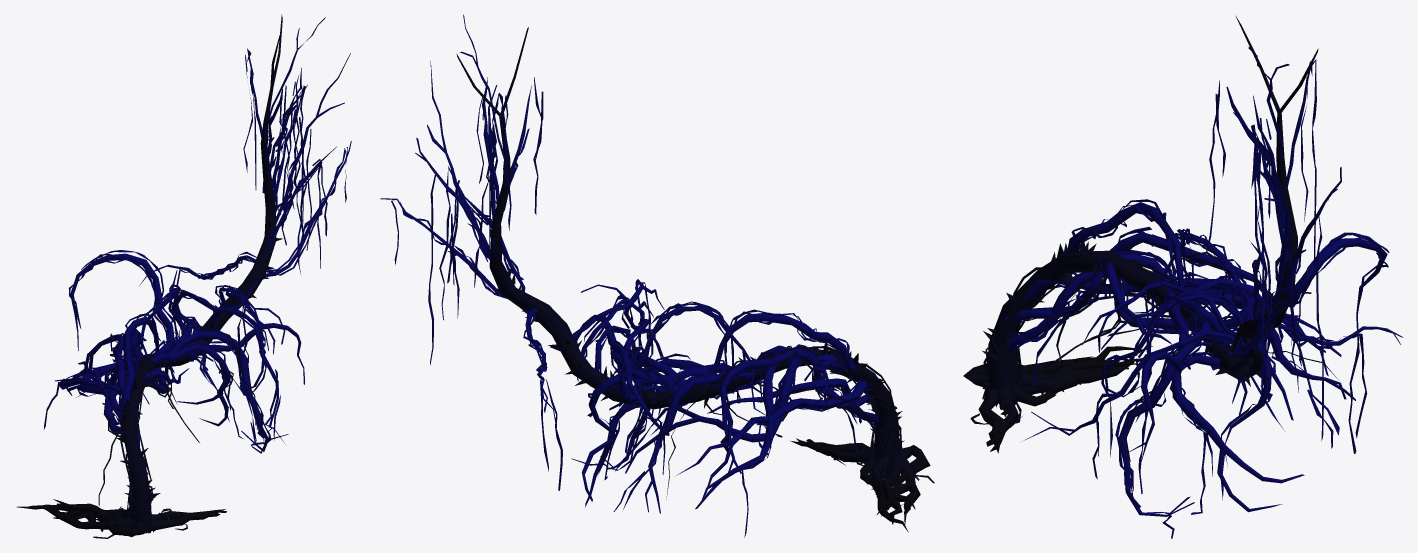
The model's file is Sm_SpikeTree_10.FBX.
3 views of the same model, side by side, from view 1: azimuth 30°, elevation 25°; view 2: azimuth 150°, elevation 25°; view 3: azimuth 270°, elevation 25° (orthographic). The views are drawn at different scales.
Visible parts, largest first — view 1: Sm_SpikeTree_10; view 2: Sm_SpikeTree_10; view 3: Sm_SpikeTree_10.
Part boxes in pixels (bbox=[...]): Sm_SpikeTree_10: bbox=[16, 14, 351, 538]; Sm_SpikeTree_10: bbox=[380, 14, 934, 537]; Sm_SpikeTree_10: bbox=[963, 16, 1403, 538].
Size of what is drawn, in the model's own units: 1302 by 899 by 1237.
